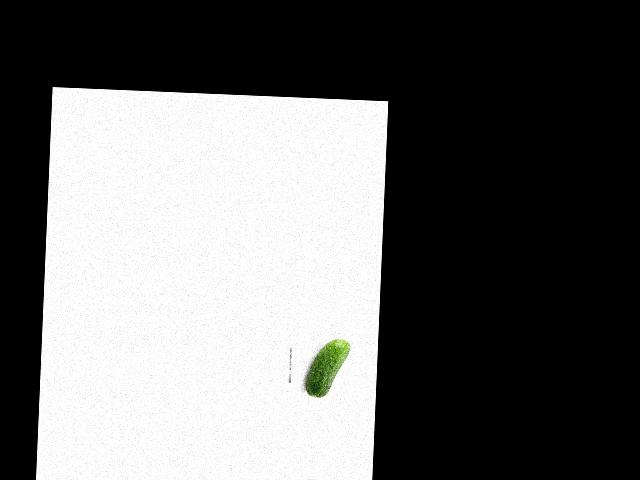cucumber: (304, 338, 350, 398)
